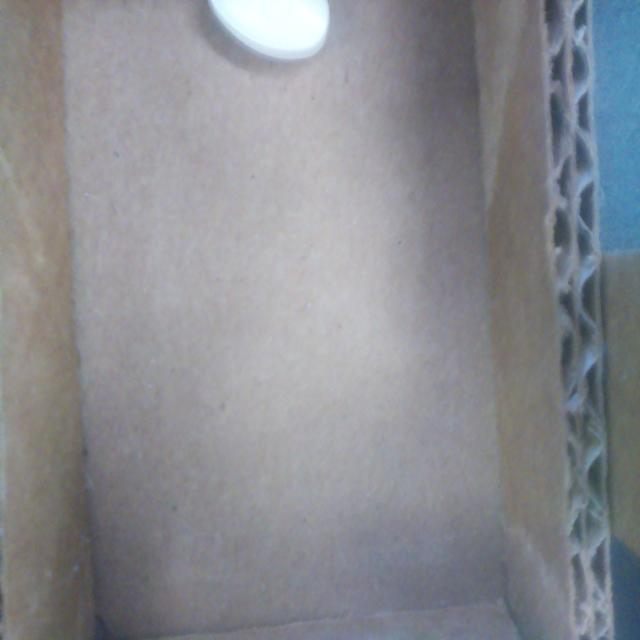pill: (205, 0, 331, 61)
